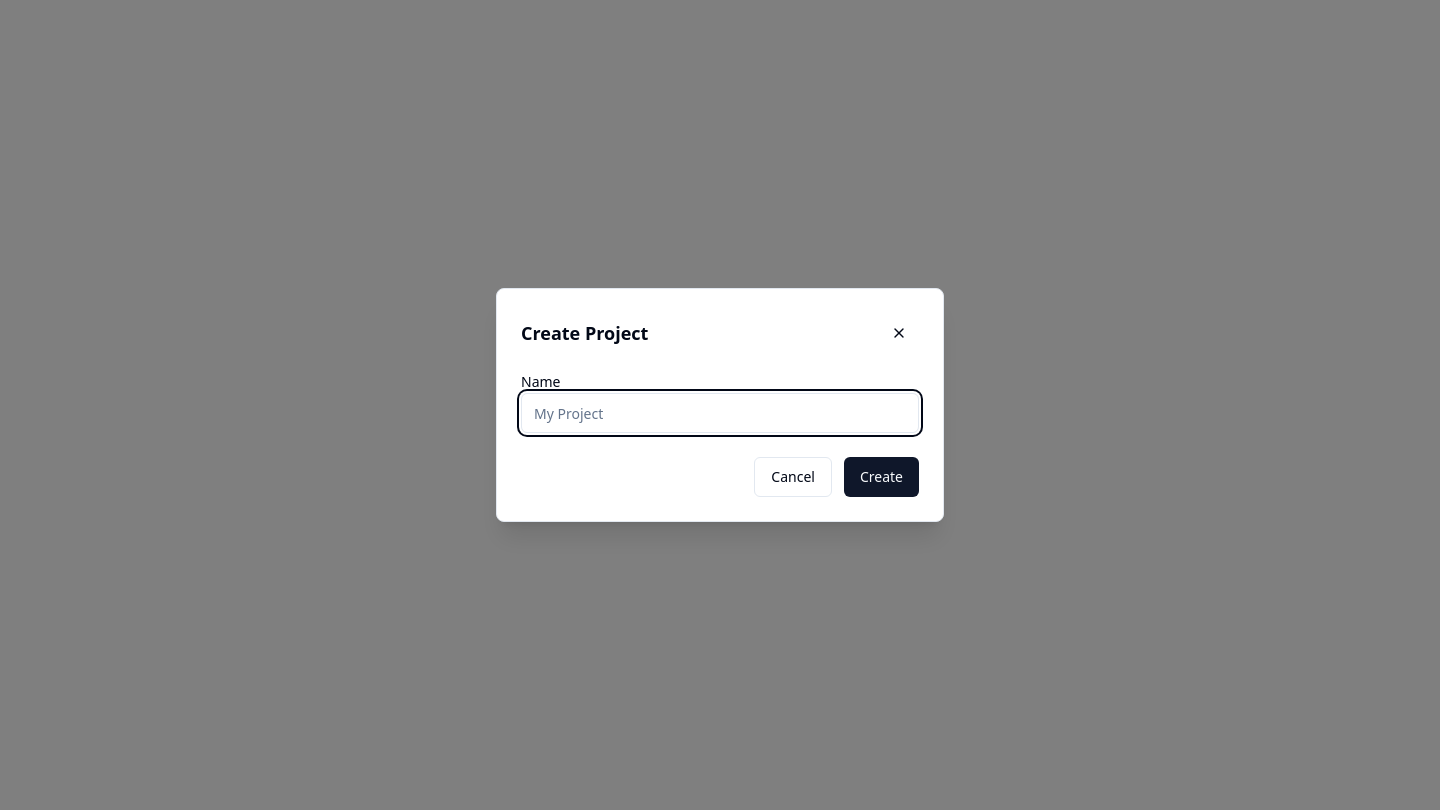
it: CreateProjectDialog › shows API error message inline on failure
The image size is (1440, 810).
Step 1. Type "Dup Project" into the field labelled "Name" → coordinates (720, 413), box x1=521 y1=393 x2=919 y2=433
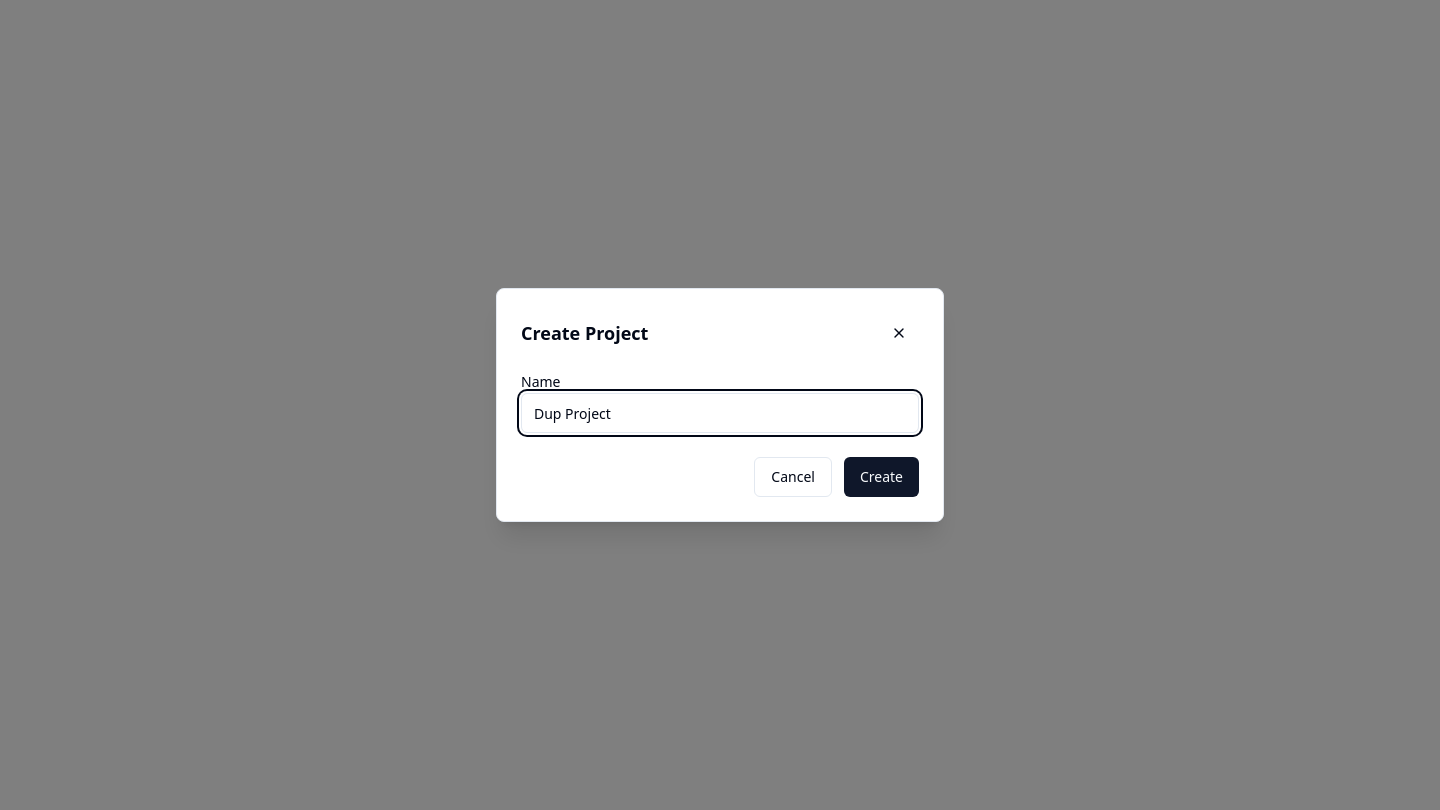
Step 2. Click the button "Create" → coordinates (881, 477), box x1=844 y1=457 x2=919 y2=497
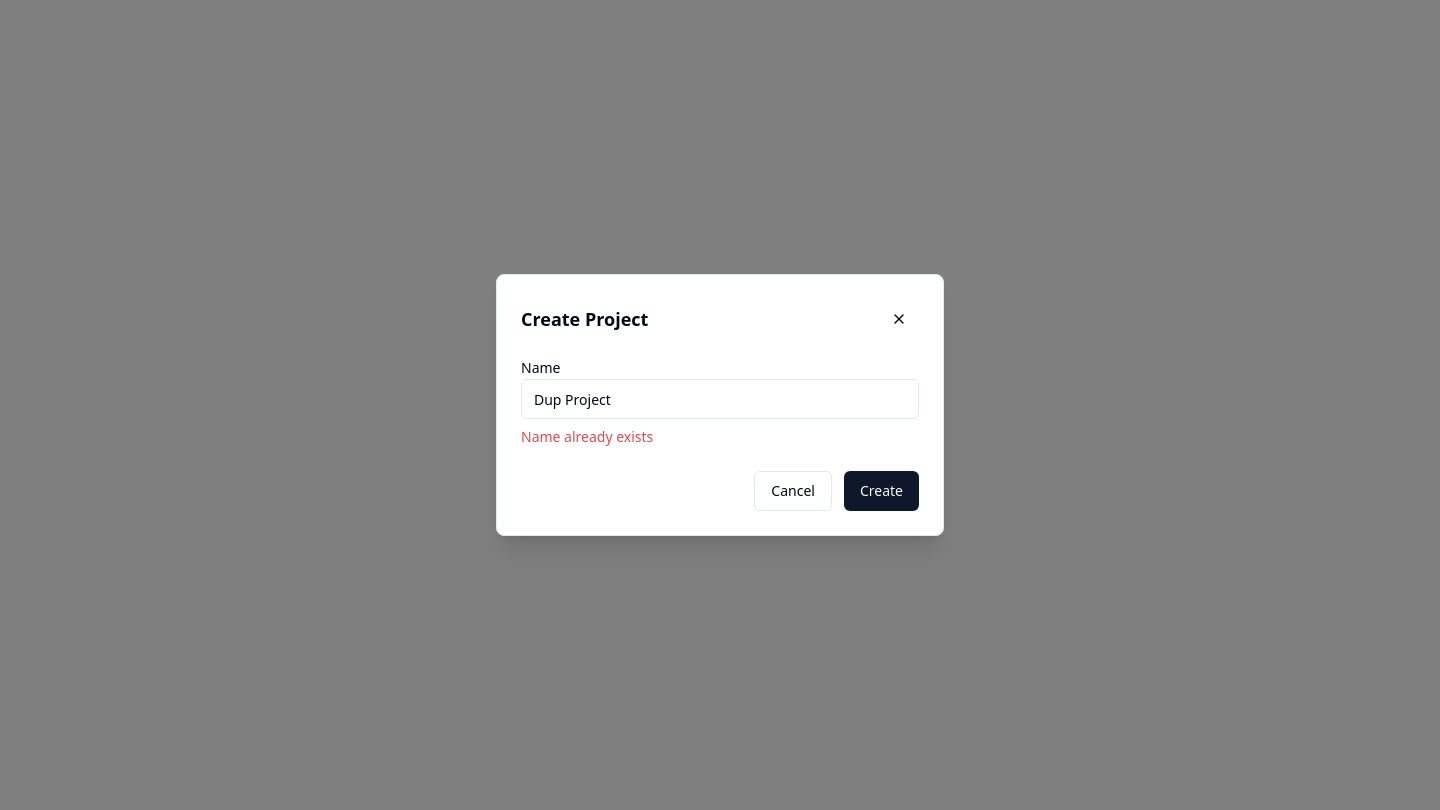
Check: the text "Name already exists" is shown, box x1=521 y1=427 x2=653 y2=446
